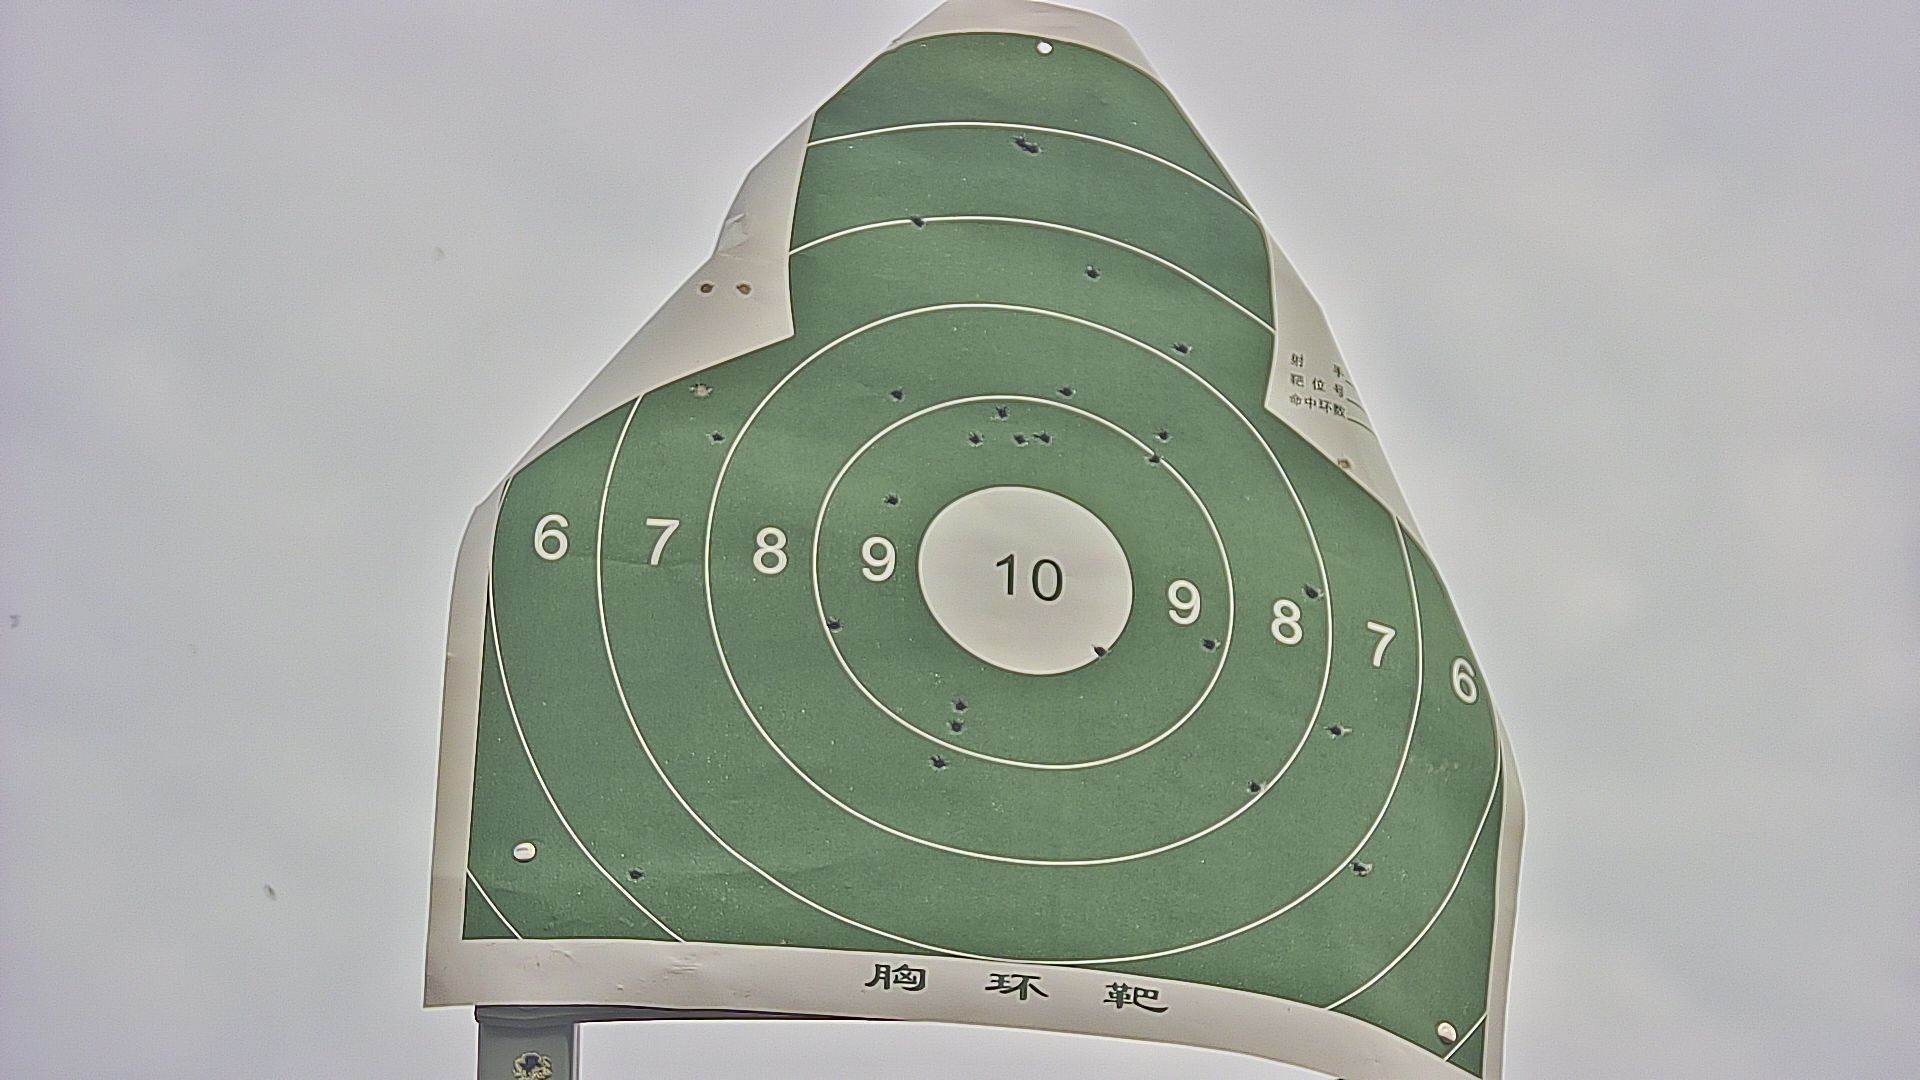hole: (1201, 633, 1220, 654), (1170, 339, 1193, 353), (928, 754, 947, 771), (1325, 721, 1345, 737), (1352, 858, 1369, 876), (694, 382, 712, 398), (1302, 582, 1320, 597), (992, 404, 1009, 419), (1038, 40, 1056, 54), (887, 382, 902, 401), (1149, 451, 1163, 469), (910, 214, 926, 229), (1011, 431, 1027, 447), (626, 866, 644, 881), (949, 717, 964, 735), (1058, 382, 1072, 398), (1093, 641, 1106, 658), (1337, 456, 1352, 471), (1154, 429, 1170, 442), (968, 431, 981, 447), (1035, 429, 1048, 444), (1027, 138, 1039, 156), (1011, 133, 1026, 146), (825, 615, 839, 629), (884, 492, 898, 505), (735, 280, 748, 294), (1087, 262, 1097, 280), (1247, 781, 1261, 794), (698, 281, 709, 293), (711, 431, 723, 442), (955, 700, 968, 709)
kernel: (1019, 576, 1027, 578)
target: (462, 32, 1491, 1080)
ten: (919, 484, 1133, 673)
